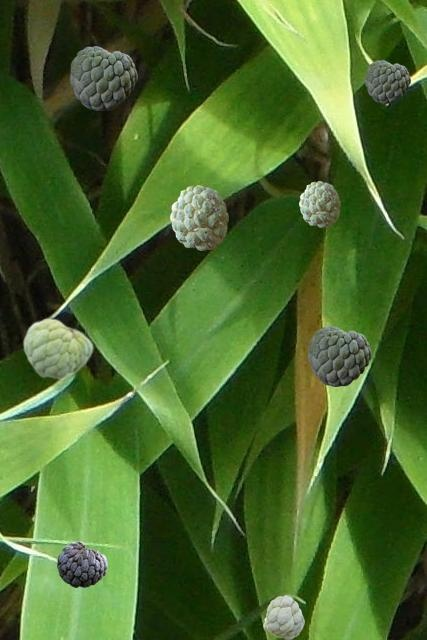atis: (22, 317, 92, 379), (70, 46, 136, 109), (308, 326, 370, 385), (170, 185, 227, 249), (57, 541, 106, 586), (365, 60, 409, 102), (299, 181, 339, 226), (263, 595, 303, 638)
